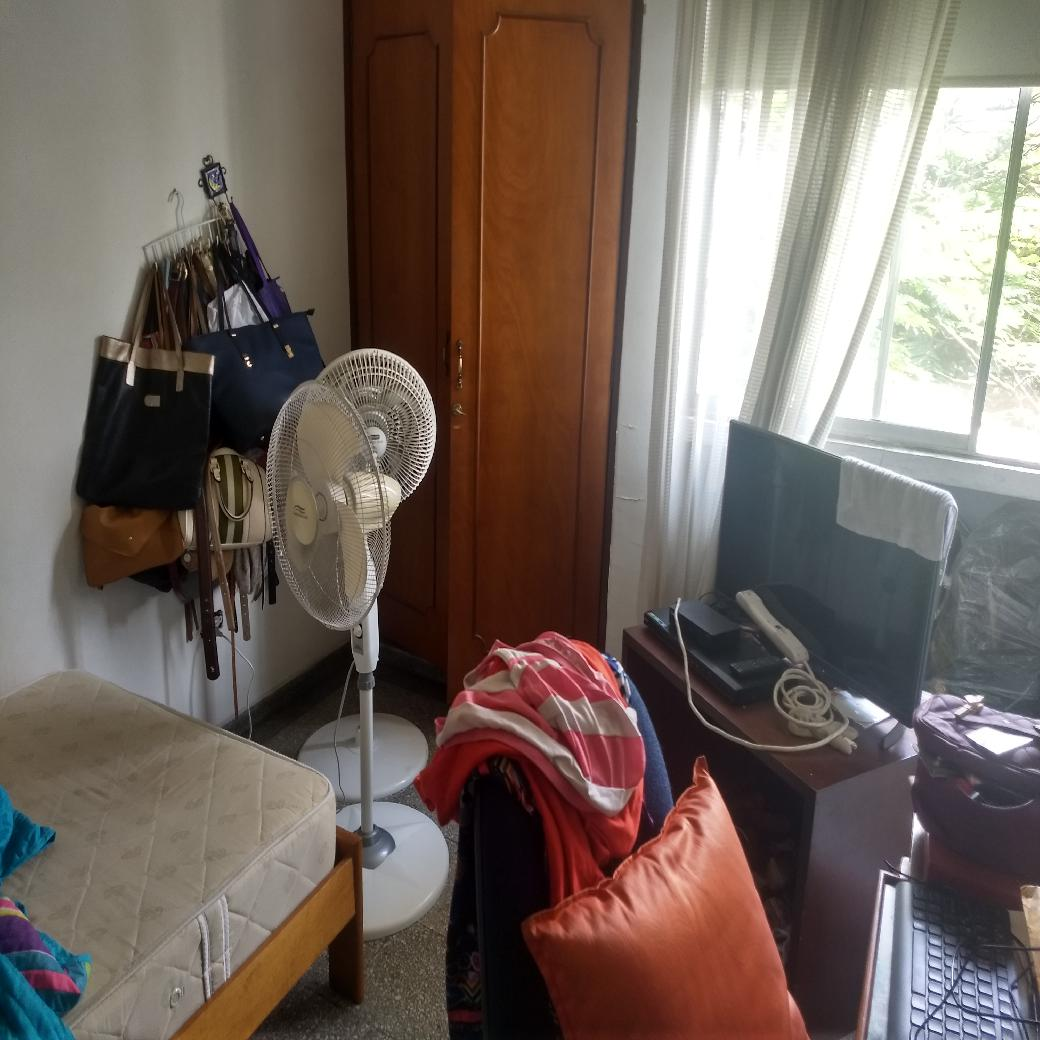tv: (712, 419, 937, 732)
ventilador: (247, 381, 396, 648), (324, 345, 440, 500)
